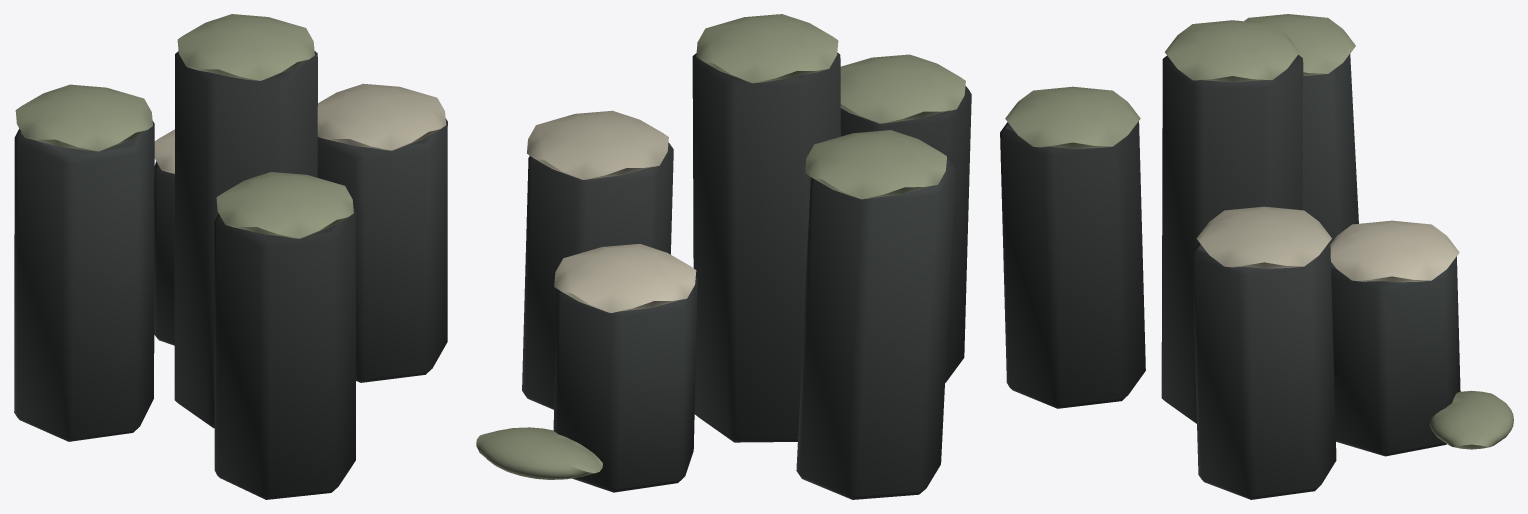
The model's file is column_stubs_b.glb.
The picture shows the model from 3 angles, left to right: view 1: azimuth 30°, elevation 25°; view 2: azimuth 150°, elevation 25°; view 3: azimuth 270°, elevation 25°; orthographic projection. The views are drawn at different scales.
Visible parts, largest first — view 1: Surface; view 2: Surface; view 3: Surface.
Boxes of the visible parts, x1=… form: Surface: x1=14, y1=14, x2=447, y2=499; Surface: x1=476, y1=14, x2=971, y2=499; Surface: x1=1000, y1=14, x2=1513, y2=499.
Bounding box in the file's own units: 2.91 × 2.56 × 3.22.
